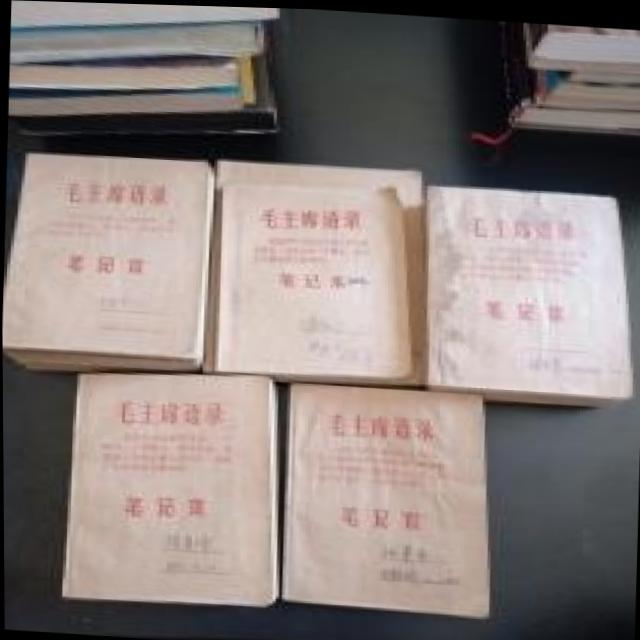box: (61, 373, 278, 606), (280, 380, 490, 616), (205, 159, 427, 382), (424, 182, 634, 406), (2, 152, 214, 368), (214, 184, 412, 380), (19, 362, 196, 373)
